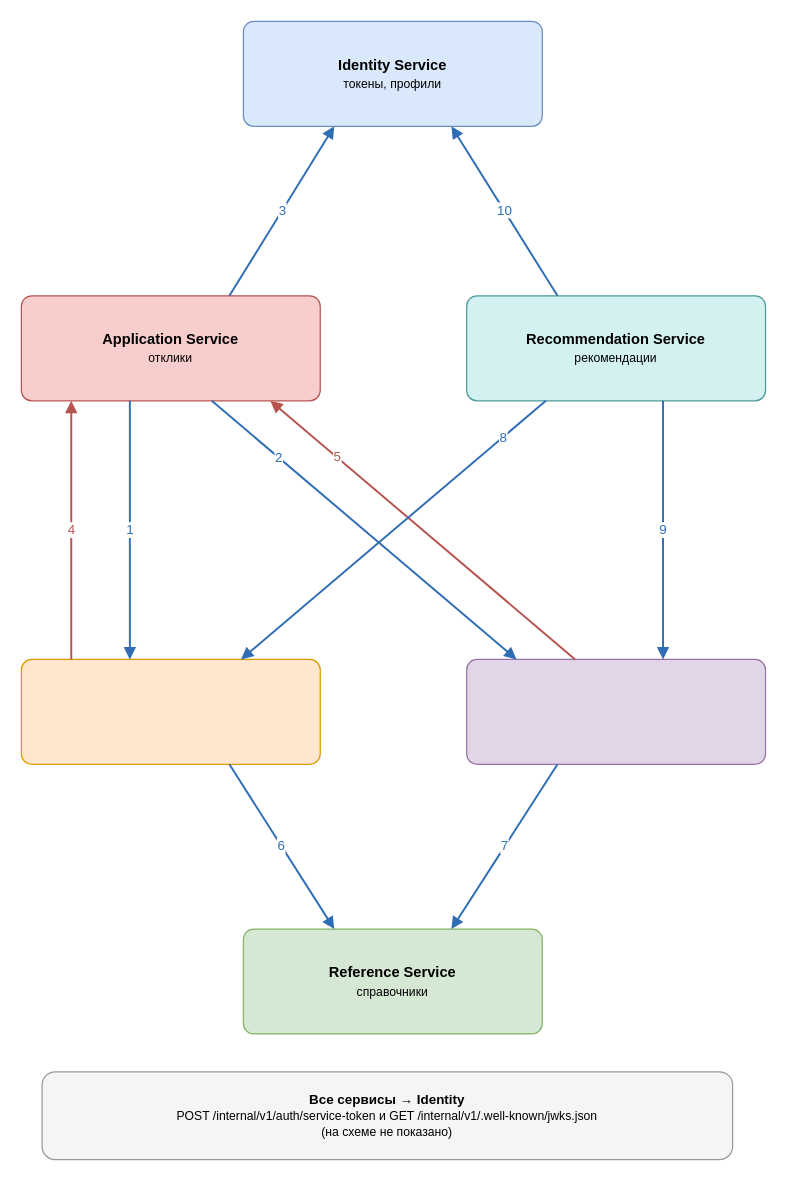
This 787x1181 diagram has some shape labels left out. The box of each missing label's shape, as (x1, y1, x2, y2) in pixels:
Resume Service резюме: (465, 658, 766, 764)
Vacancy Service компании, вакансии: (20, 658, 320, 764)
